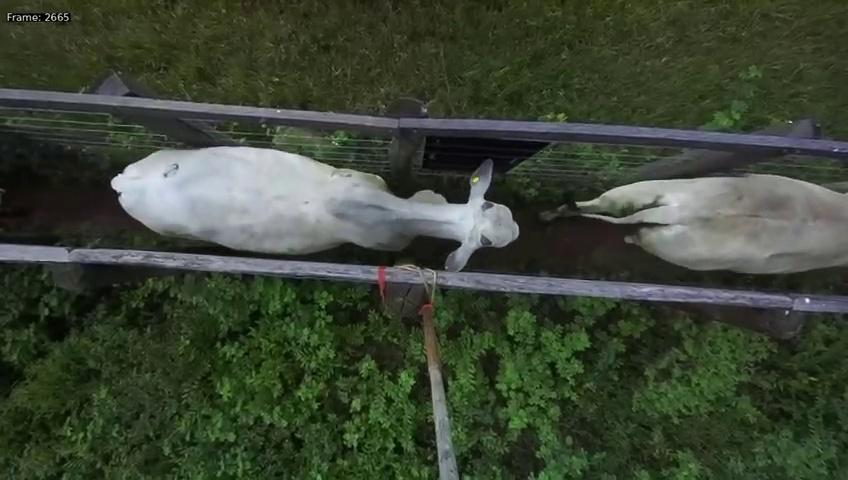cattle: (114, 132, 519, 270)
